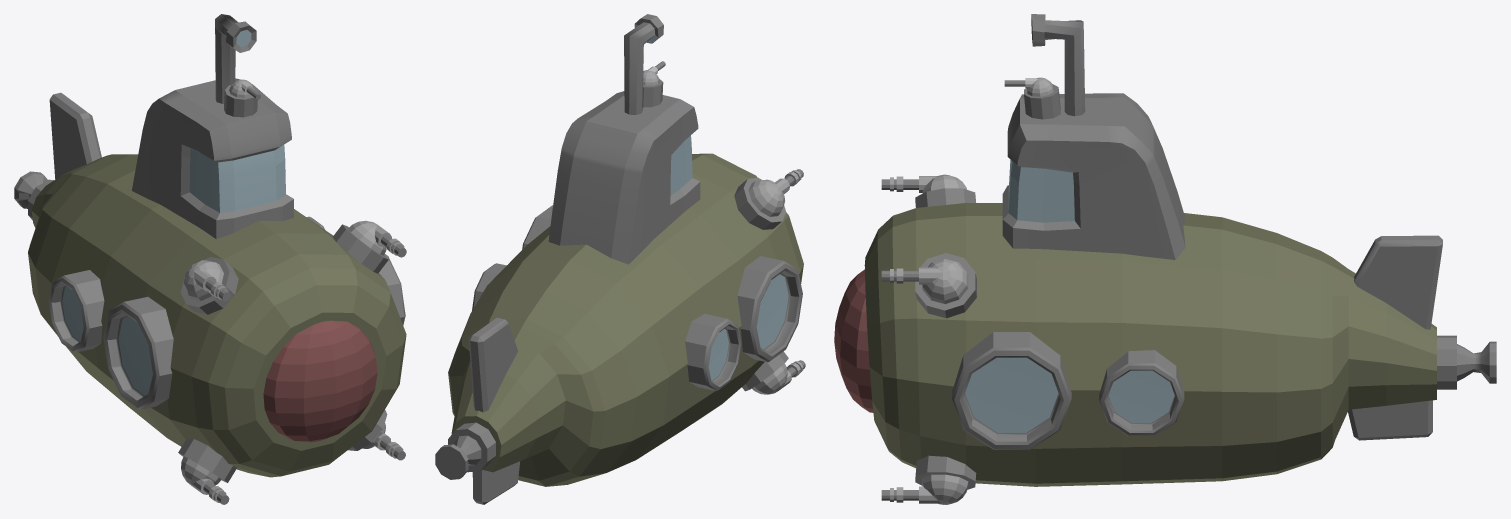
File: Submarine with Gun Upgrade 1 and 2.fbx
3 views of the same model, side by side, from view 1: azimuth 30°, elevation 25°; view 2: azimuth 150°, elevation 25°; view 3: azimuth 270°, elevation 25° (orthographic). The views are drawn at different scales.
Visible parts, largest first — view 1: Starting_Submarine, Gun_Upgrade_3, Gun_Upgrade_1; view 2: Starting_Submarine, Gun_Upgrade_3, Gun_Upgrade_1; view 3: Starting_Submarine, Gun_Upgrade_3, Gun_Upgrade_1.
Boxes of the visible parts, x1,y1,x2,y2 form: Starting_Submarine: [14, 14, 406, 477]; Gun_Upgrade_3: [181, 220, 406, 314]; Gun_Upgrade_1: [178, 410, 405, 504]; Starting_Submarine: [435, 14, 803, 504]; Gun_Upgrade_3: [734, 169, 803, 229]; Gun_Upgrade_1: [742, 351, 805, 394]; Starting_Submarine: [834, 14, 1496, 486]; Gun_Upgrade_3: [881, 174, 976, 318]; Gun_Upgrade_1: [881, 455, 976, 504].
Size of the model in its own units: 4.28 by 6.77 by 8.91.
